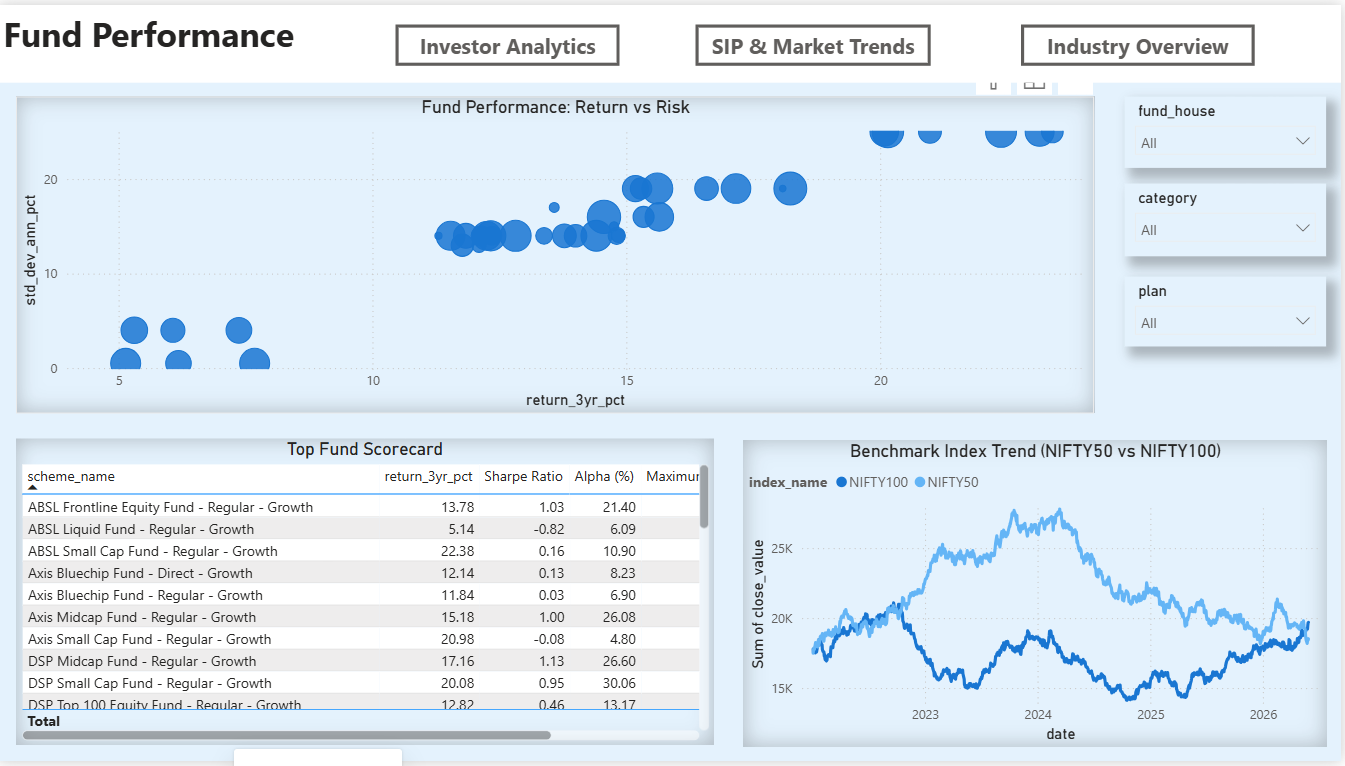

This screenshot's page, from the dashboard's own definition file:
{"tool":"powerbi","page":{"name":"Fund Performance","canvas":[1280,720],"ordinal":1},"visuals":[{"type":"scatterChart","title":"Fund Performance: Return vs Risk","fields":{"X":["07_scheme_performance_cleaned.return_3yr_pct"],"Y":["07_scheme_performance_cleaned.std_dev_ann_pct"],"Size":["Sum(07_scheme_performance_cleaned.aum_crore)"]},"box":[16.7,87.8,1028.1,301.3],"z":0},{"type":"tableEx","title":"Top Fund Scorecard","fields":{"Values":["fund_scorecard.scheme_name","fund_scorecard.return_3yr_pct","fund_scorecard.Sharpe Ratio","fund_scorecard.Alpha (%)","fund_scorecard.Maximum Drawdown (%)","fund_scorecard.Fund Score"]},"box":[16.7,413.4,664.7,292.2],"z":1000},{"type":"slicer","fields":{"Values":["01_fund_master.fund_house"]},"box":[1073.6,87.8,192.3,68.1],"z":2000},{"type":"slicer","fields":{"Values":["01_fund_master.category"]},"box":[1073.6,169.6,192.3,69.7],"z":3000},{"type":"slicer","fields":{"Values":["01_fund_master.plan"]},"box":[1073.6,258.9,192.3,66.6],"z":4000},{"type":"lineChart","title":"Benchmark Index Trend (NIFTY50 vs NIFTY100)","fields":{"Category":["10_benchmark_indices.date"],"Y":["Sum(10_benchmark_indices.close_value)"],"Series":["10_benchmark_indices.index_name"]},"box":[710.2,414.9,555.7,292.2],"z":5000},{"type":"textbox","box":[0,0,1279.5,74.2],"z":6000},{"type":"actionButton","box":[378.6,18.2,213.5,39.4],"z":7000},{"type":"actionButton","box":[664.7,18.2,224.1,39.4],"z":8000},{"type":"actionButton","box":[973.6,18.2,222.6,39.4],"z":9000}]}

Visuals, with their boxes in screenshot pixels (x1, y1, x2, y2), scaled from the page's 1280x720 canvas onto the 1345x766 screenshot:
"Fund Performance: Return vs Risk" scatterChart: bbox=(18, 93, 1098, 414)
"Top Fund Scorecard" tableEx: bbox=(18, 440, 716, 751)
slicer - 01_fund_master.fund_house: bbox=(1128, 93, 1330, 166)
slicer - 01_fund_master.category: bbox=(1128, 180, 1330, 255)
slicer - 01_fund_master.plan: bbox=(1128, 275, 1330, 346)
"Benchmark Index Trend (NIFTY50 vs NIFTY100)" lineChart: bbox=(746, 441, 1330, 752)
textbox: bbox=(0, 0, 1344, 79)
actionButton: bbox=(398, 19, 622, 61)
actionButton: bbox=(698, 19, 934, 61)
actionButton: bbox=(1023, 19, 1257, 61)
